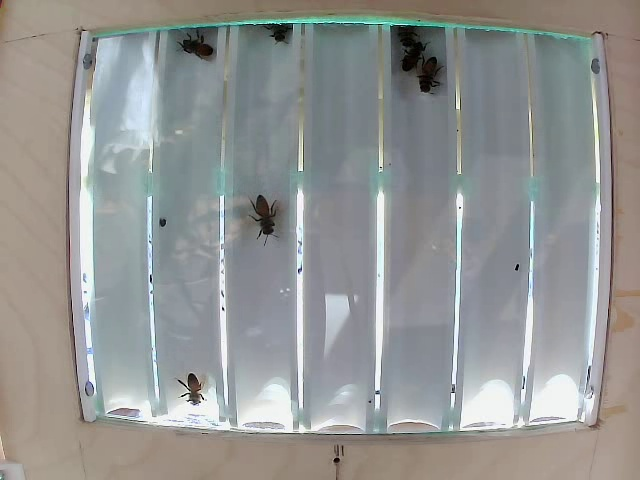bee: (251, 195, 285, 234), (182, 351, 210, 395), (413, 60, 444, 97), (183, 33, 210, 63), (398, 39, 420, 74)
